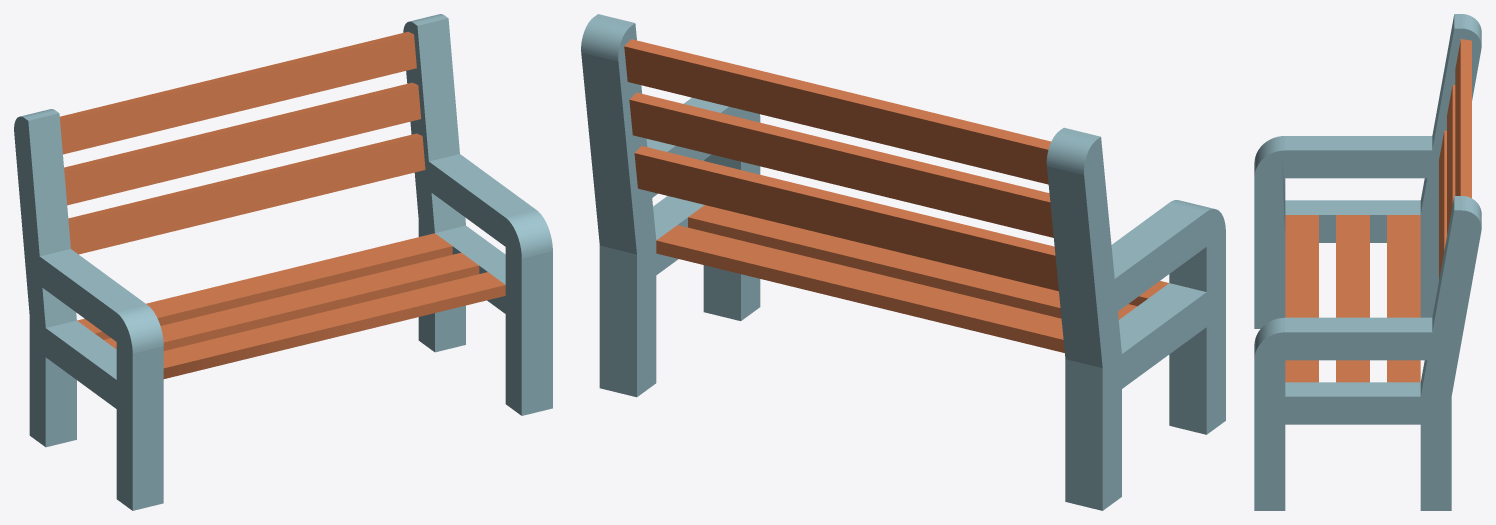
Rendered from bench.obj.
3 renders of one model, left to right at view 1: azimuth 30°, elevation 25°; view 2: azimuth 150°, elevation 25°; view 3: azimuth 270°, elevation 25°, orthographic. The views are drawn at different scales.
Visible parts, largest first — view 1: bench; view 2: bench; view 3: bench.
Boxes of the visible parts, x1,y1,x2,y2 form: bench: (14,14,552,510); bench: (581,14,1225,510); bench: (1254,14,1481,510).
Bounding box in the file's own units: 0.7695 × 0.549 × 0.3763.
